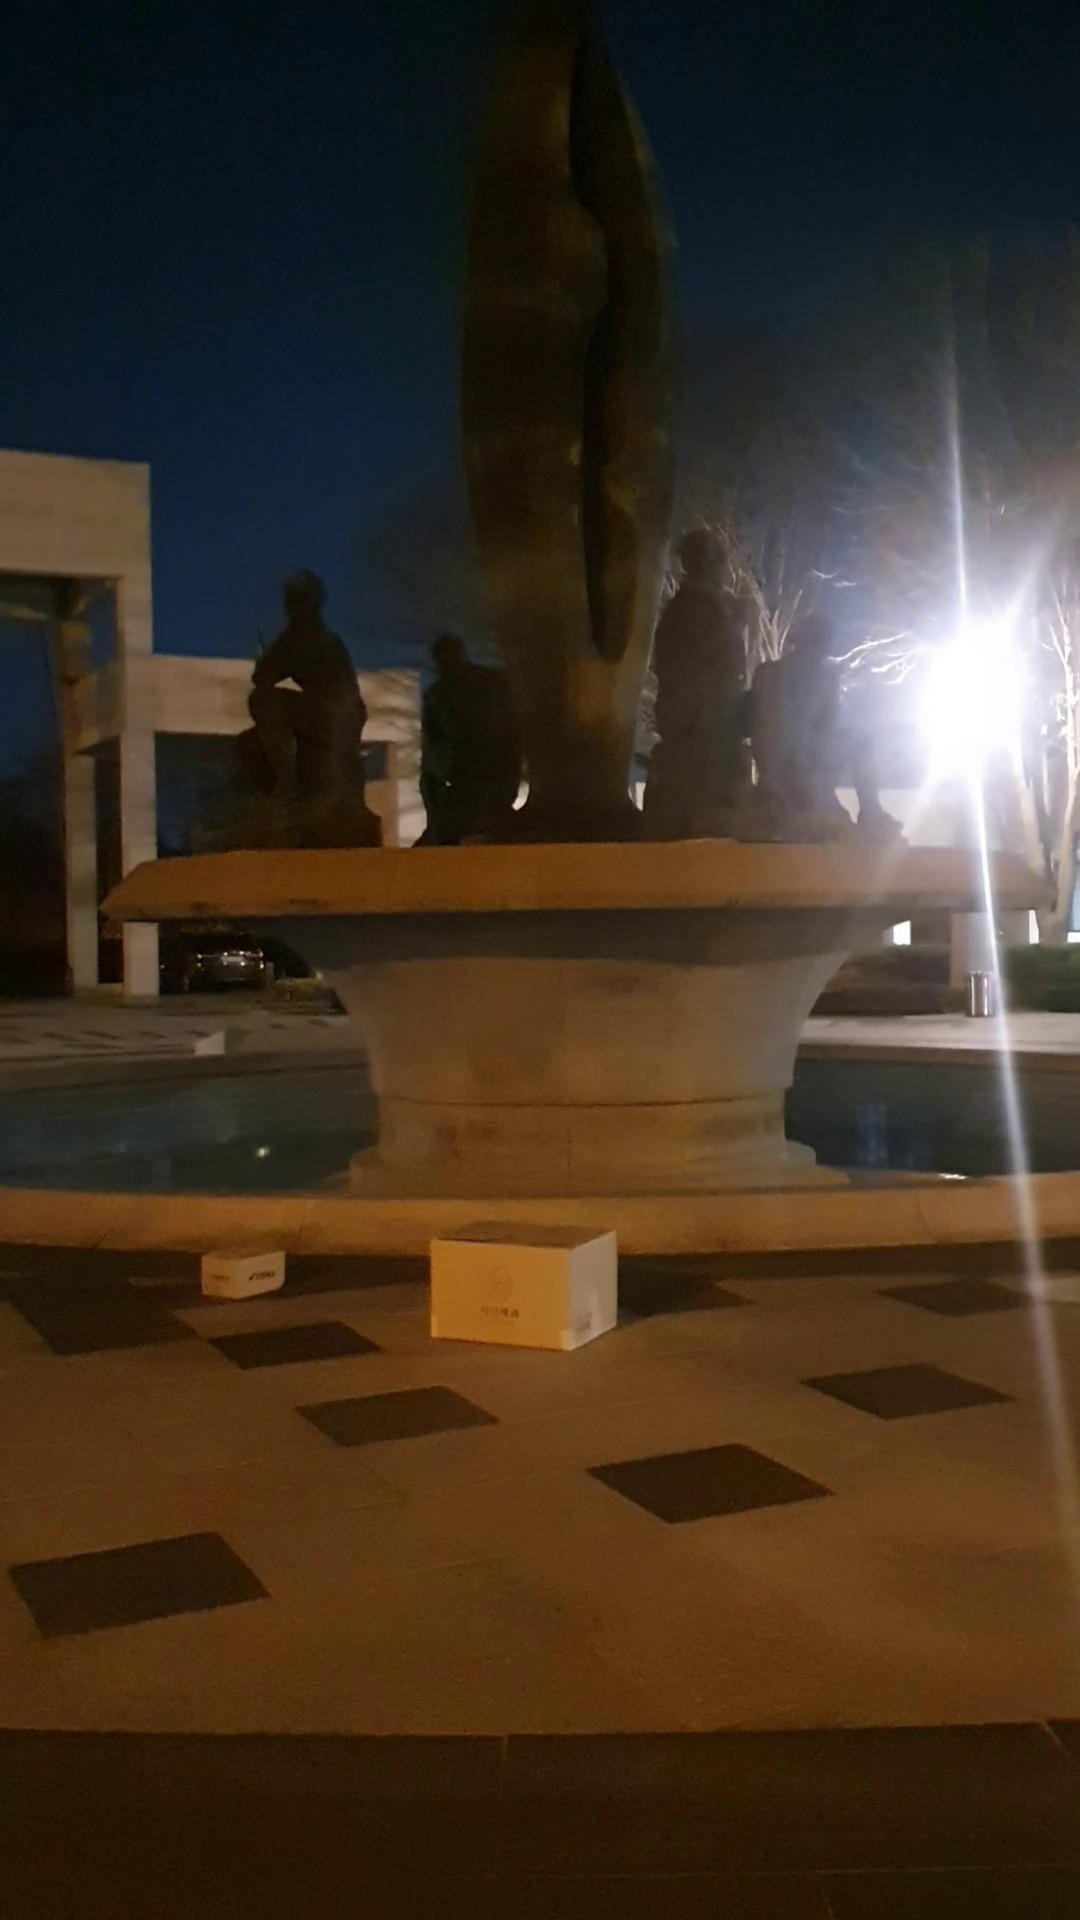Box: (415, 1211, 638, 1360), (186, 1233, 295, 1313)
